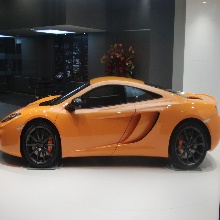no damage: (1, 74, 220, 172)
